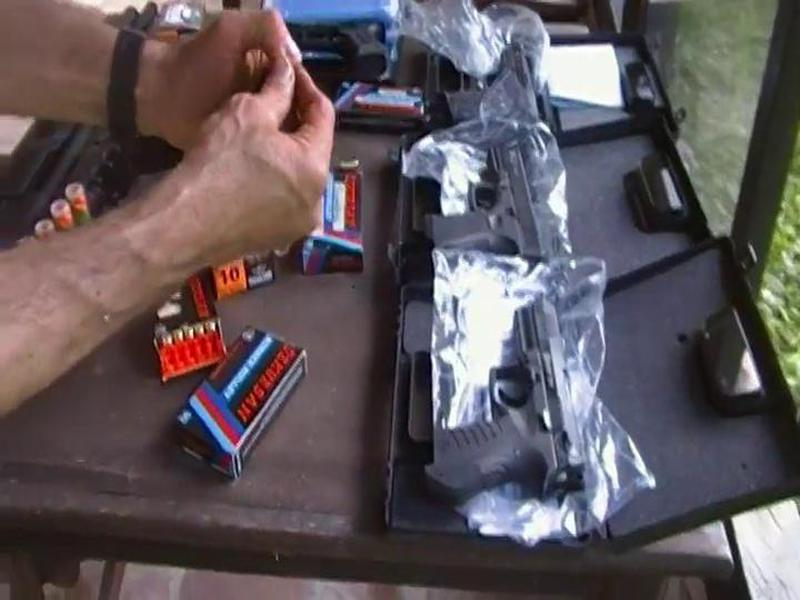Pistola: (405, 284, 607, 509), (420, 138, 586, 275)
